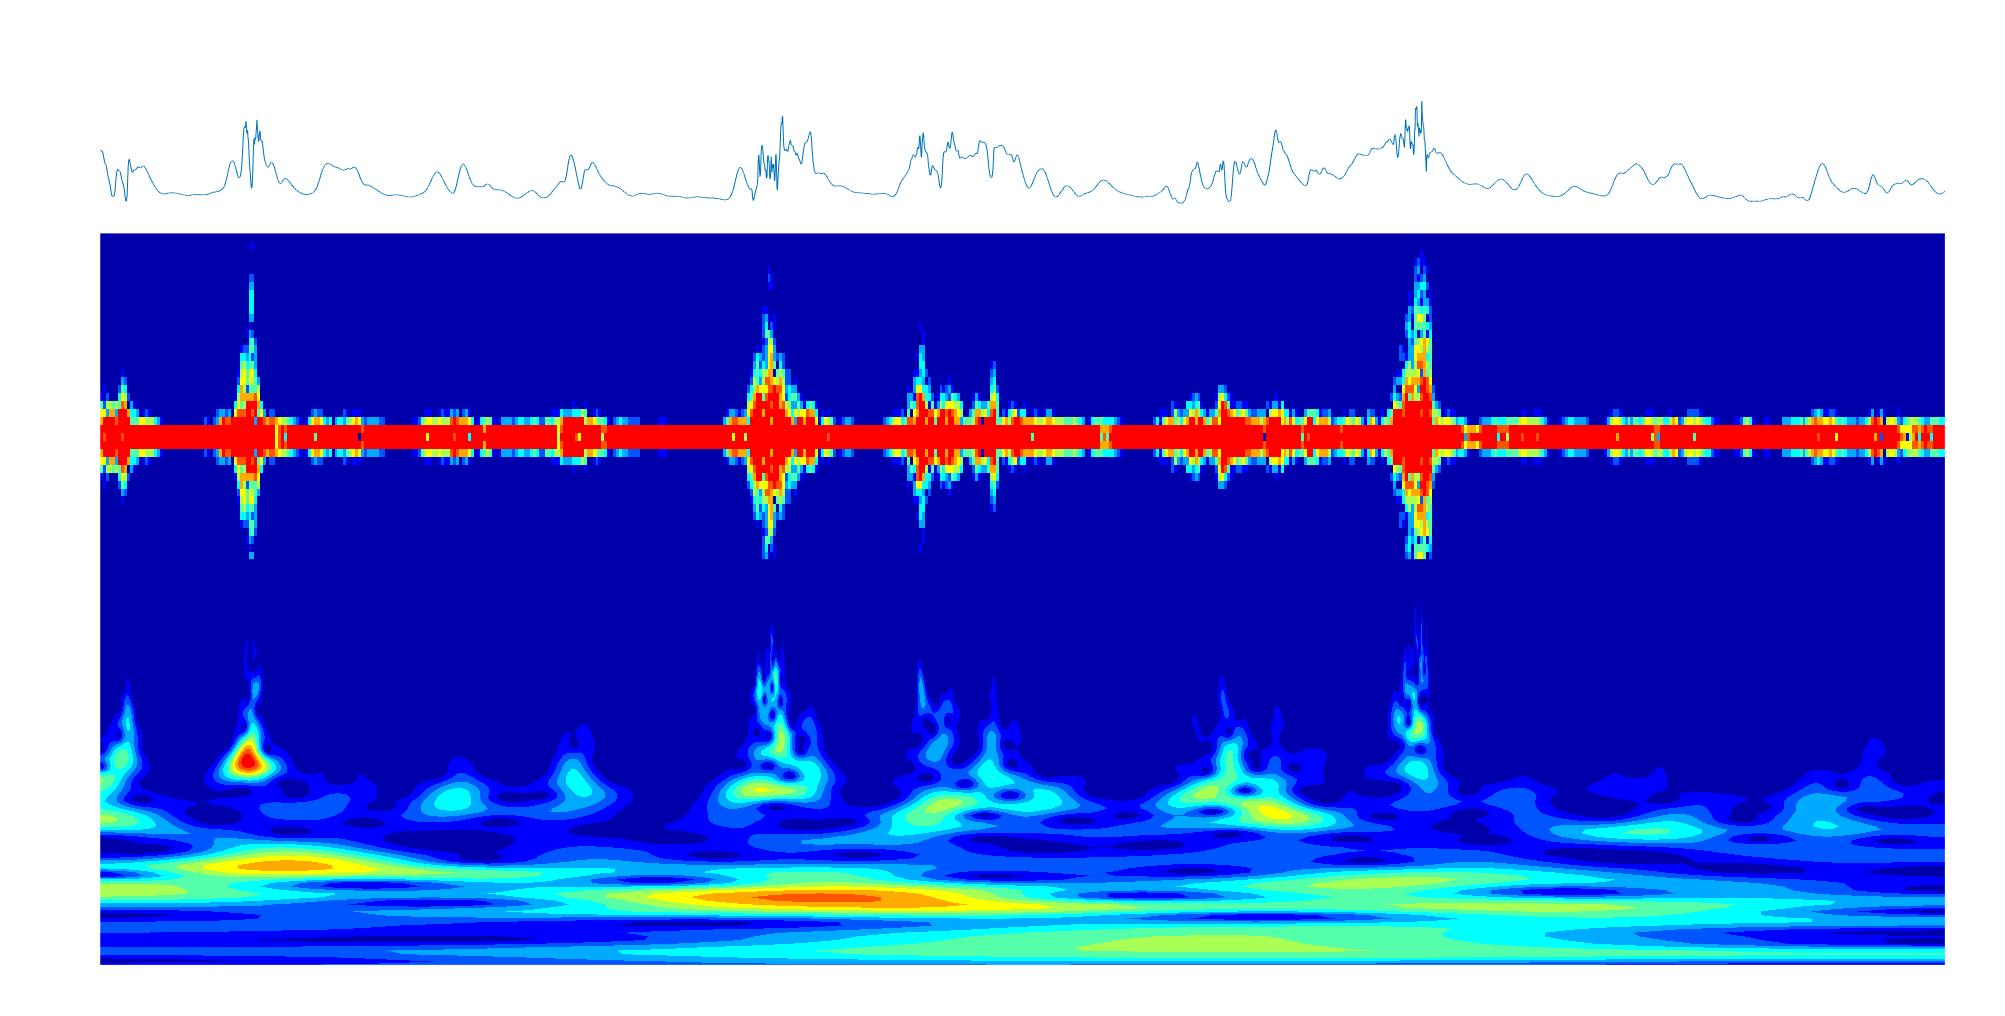TURBULENT: (746, 235, 798, 963), (1388, 233, 1436, 964), (905, 236, 942, 964), (237, 235, 269, 968)
